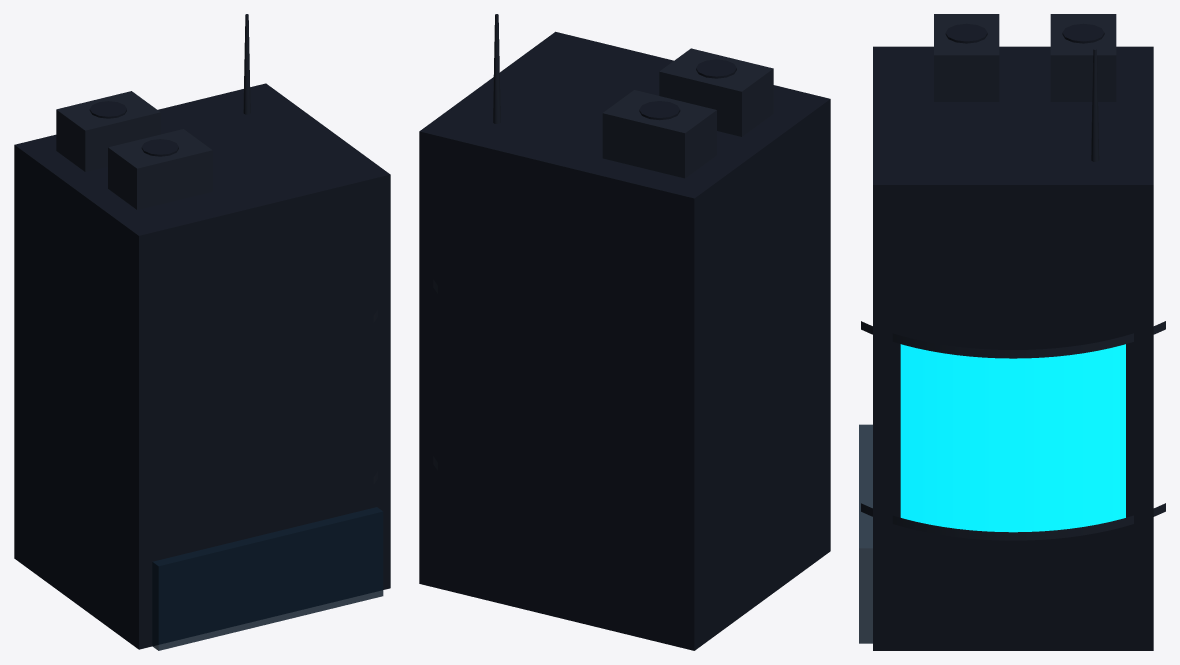
Rendered from building_media_midrise.glb.
The picture shows the model from 3 angles, left to right: view 1: azimuth 30°, elevation 25°; view 2: azimuth 150°, elevation 25°; view 3: azimuth 270°, elevation 25°; orthographic projection. The views are drawn at different scales.
Parts seen in each view (by area): view 1: BuildingMediaMidRise; view 2: BuildingMediaMidRise; view 3: BuildingMediaMidRise.
Boxes of the visible parts, x1,y1,x2,y2 form: BuildingMediaMidRise: [14, 14, 390, 650]; BuildingMediaMidRise: [419, 14, 830, 650]; BuildingMediaMidRise: [859, 14, 1165, 650].
Bounding box in the file's own units: 15.7 × 27.25 × 13.13.
